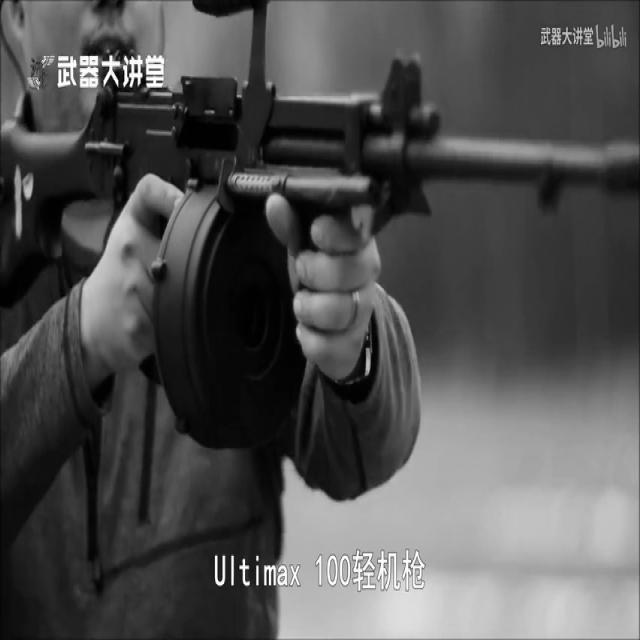Sub-machine-gun: (12, 11, 640, 489)
